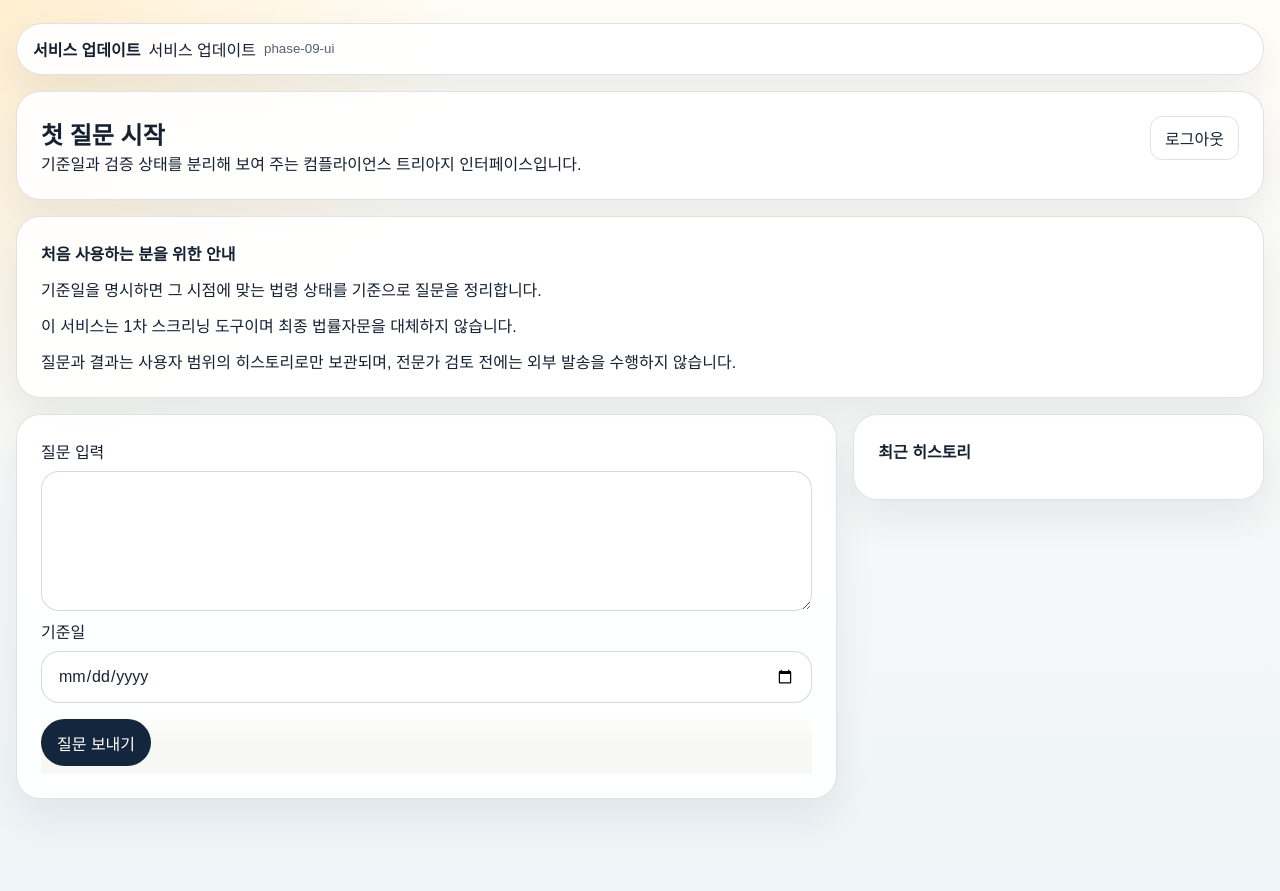
Test: AppShell › locks export during verification_pending and preserves draft after cancel
Type "산안법 제10조 안전조치" into the text box labelled "질문 입력" at (427, 541), box [41,471,812,611]
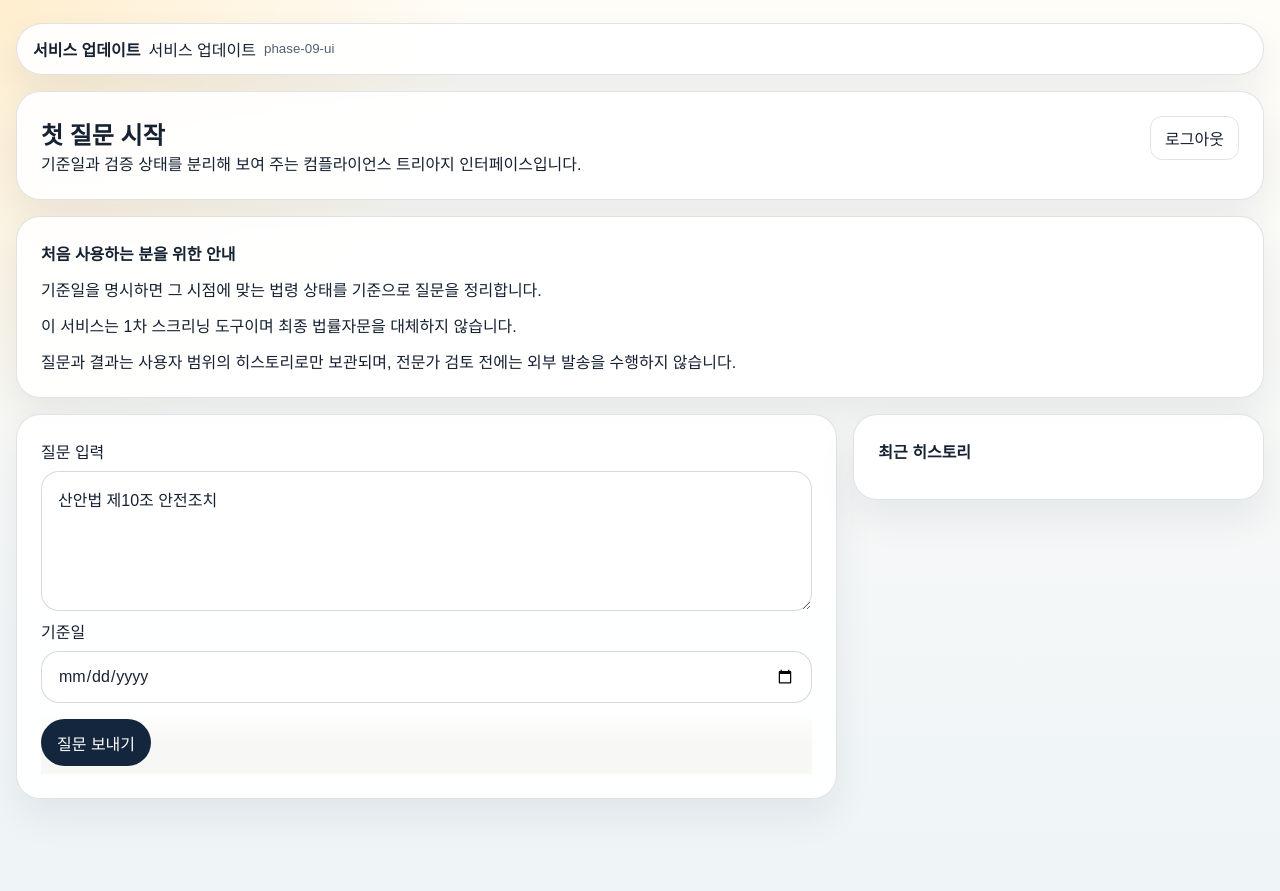
Type "2026-04-18" into the date field labelled "기준일" at (427, 677), box [41,651,812,703]
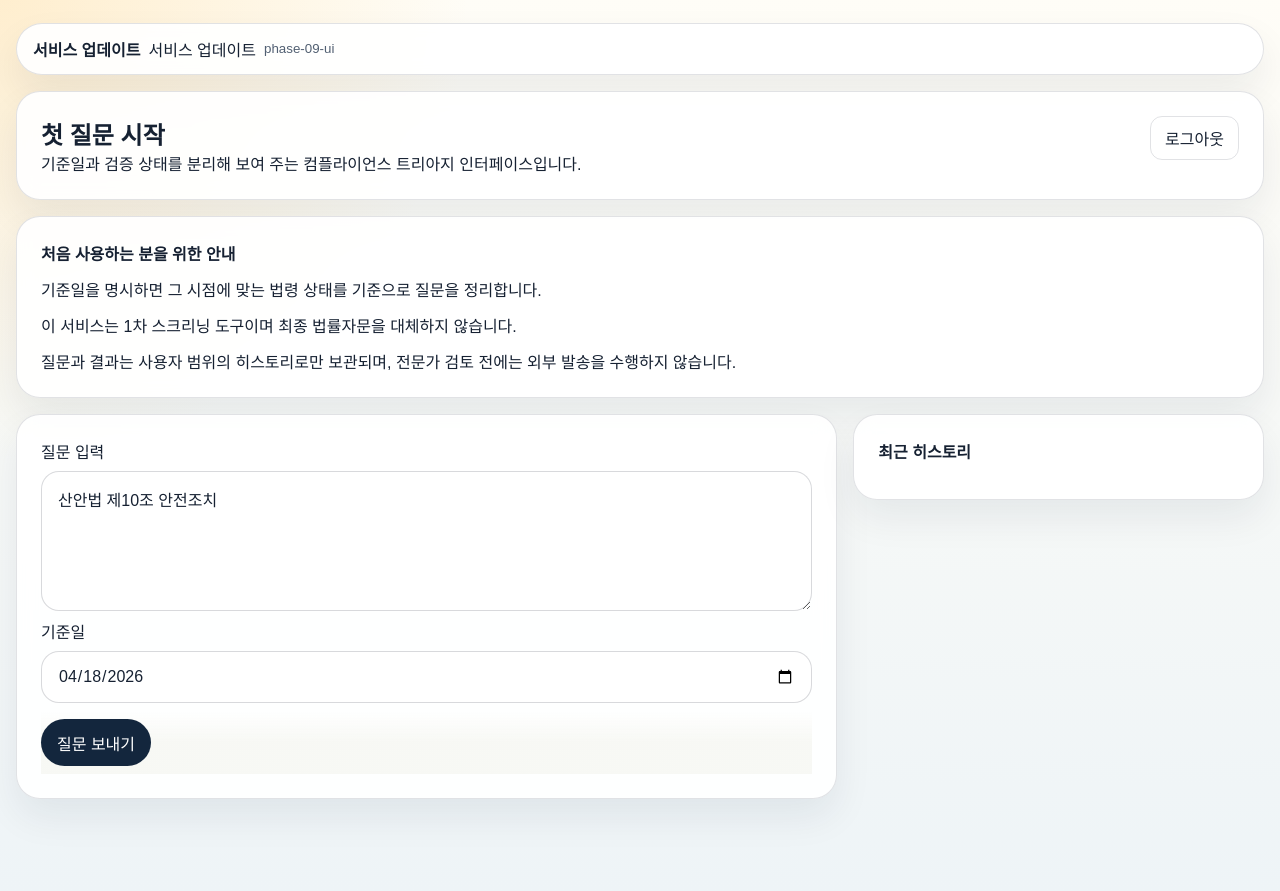
Click the button "질문 보내기" at (96, 742), box [41,719,151,766]
(page scrolled)
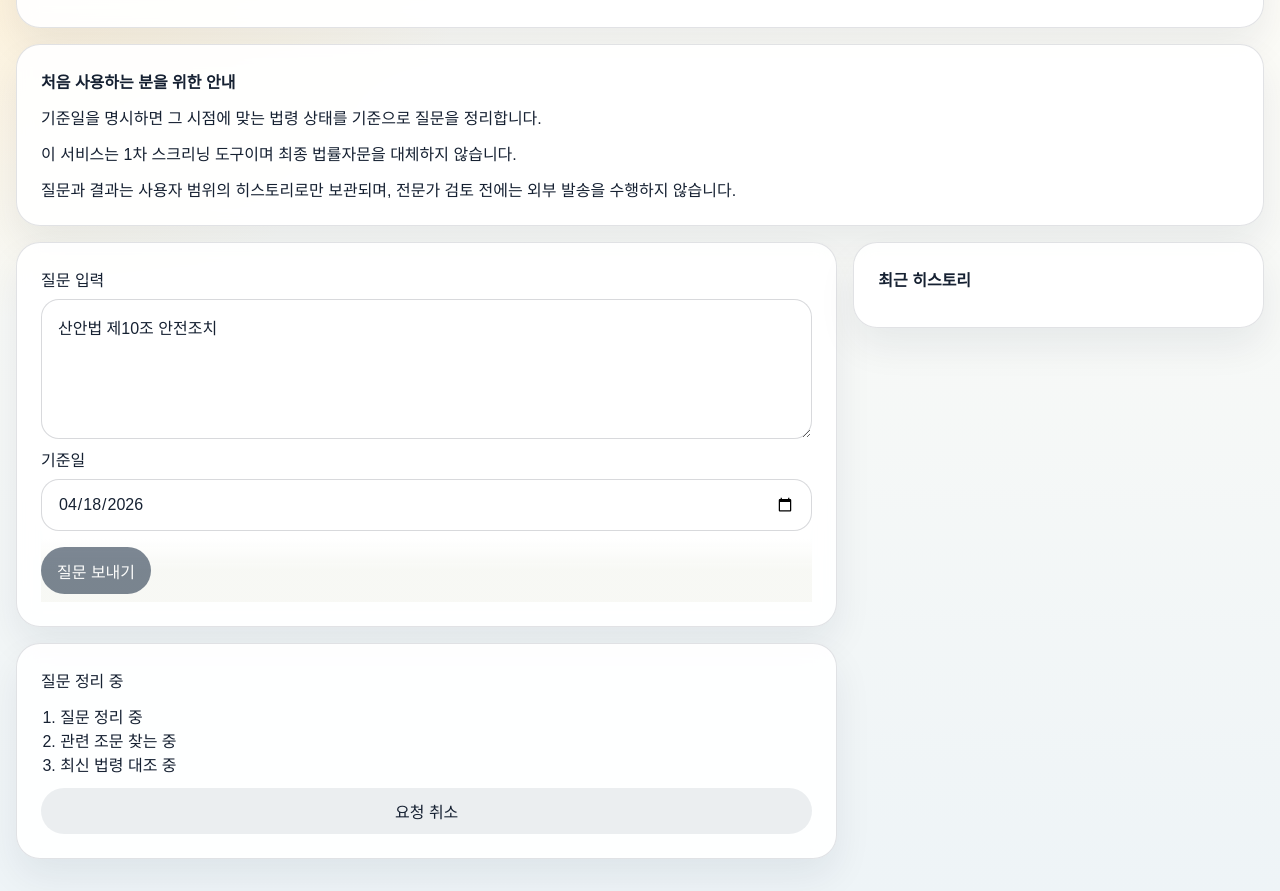
Check: the message "질문 정리 중" is shown, box [41,673,124,690]
Click the button "요청 취소" at (427, 811), box [41,788,812,834]
(page scrolled)
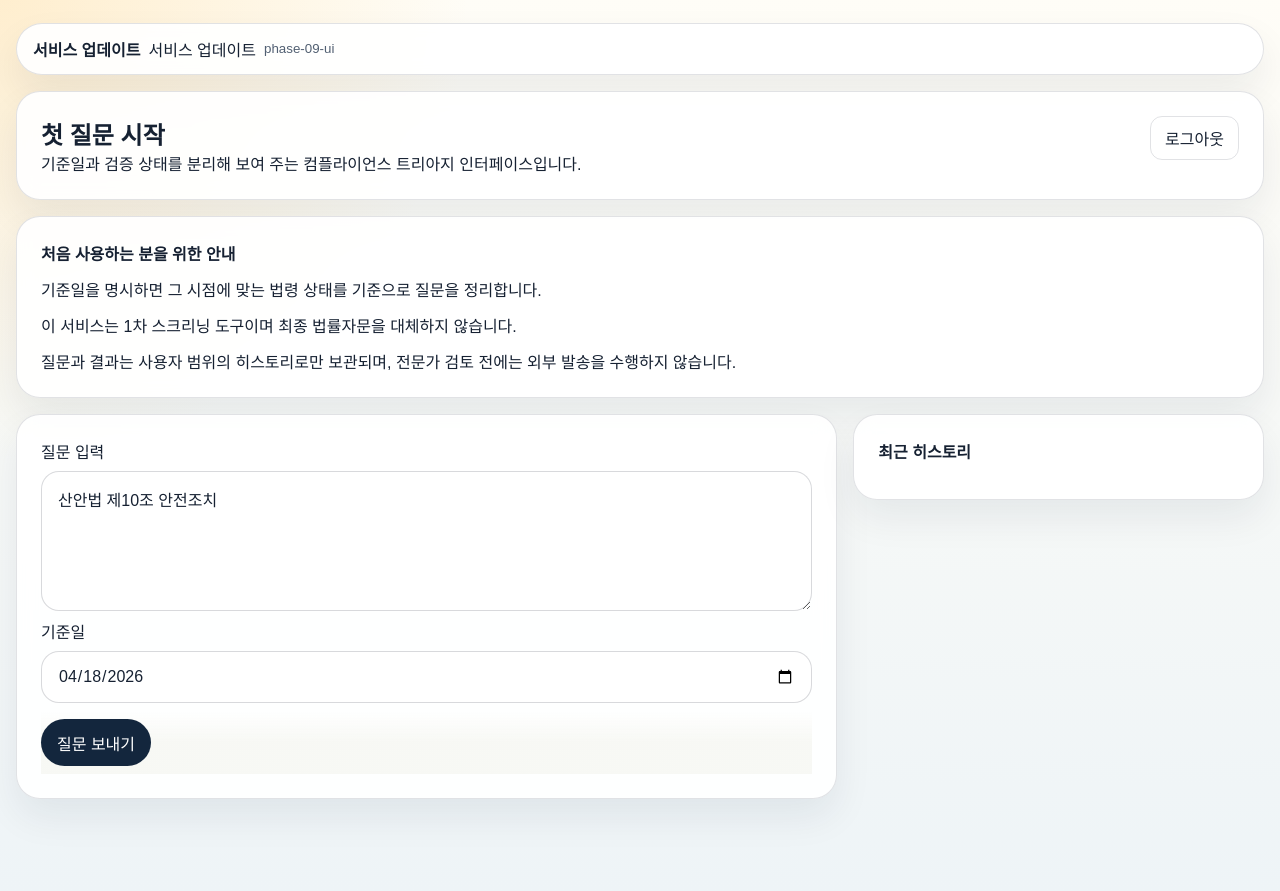
Click the button "질문 보내기" at (96, 742), box [41,719,151,766]
(page scrolled)
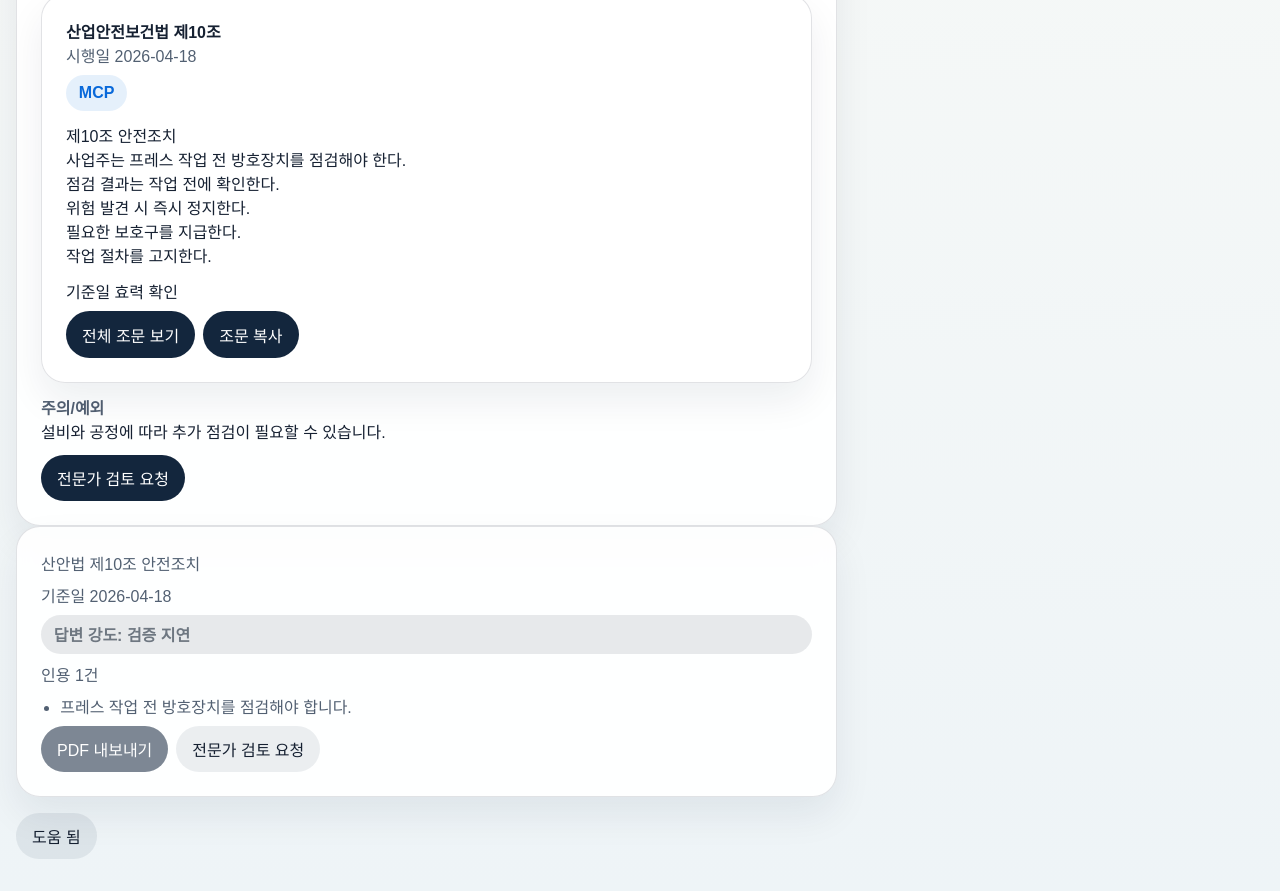
Check: the button "PDF 내보내기" is disabled, box [41,726,168,772]
